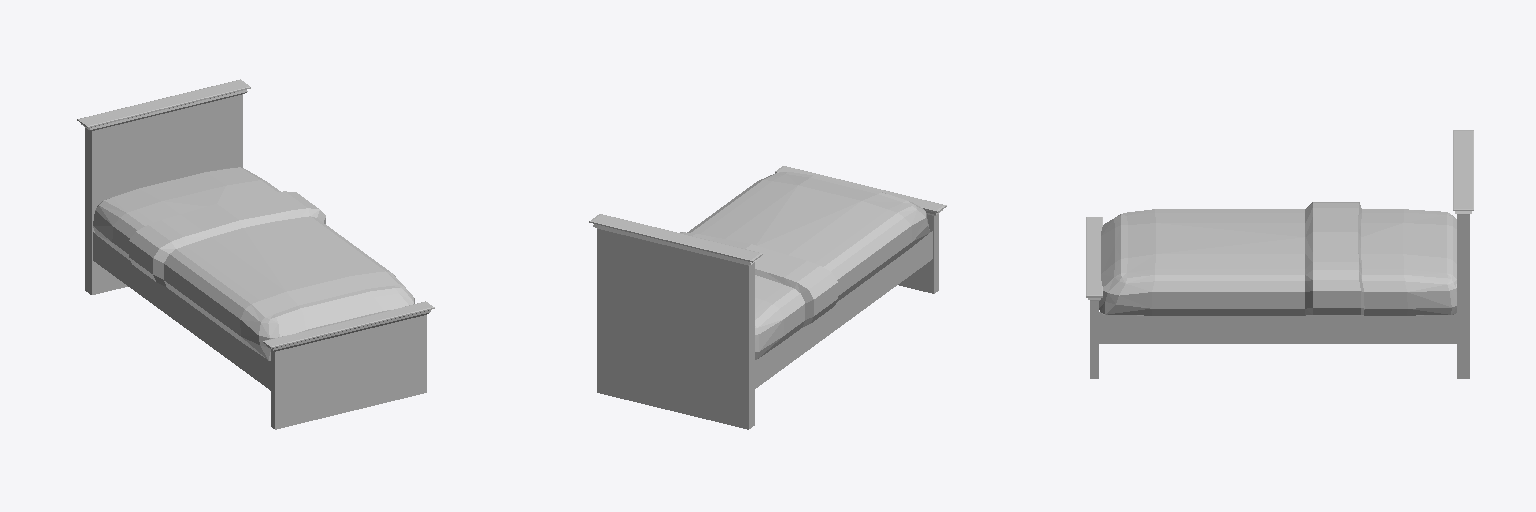
File: product_6.obj
The picture shows the model from 3 angles: view 1: azimuth 30°, elevation 25°; view 2: azimuth 150°, elevation 25°; view 3: azimuth 270°, elevation 25°; orthographic projection.
Bounding box in the file's own units: 0.0213 × 0.0202 × 0.0413.